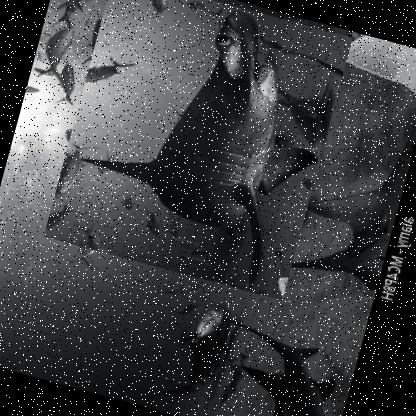hammerhead_Shark: (42, 0, 353, 302)
